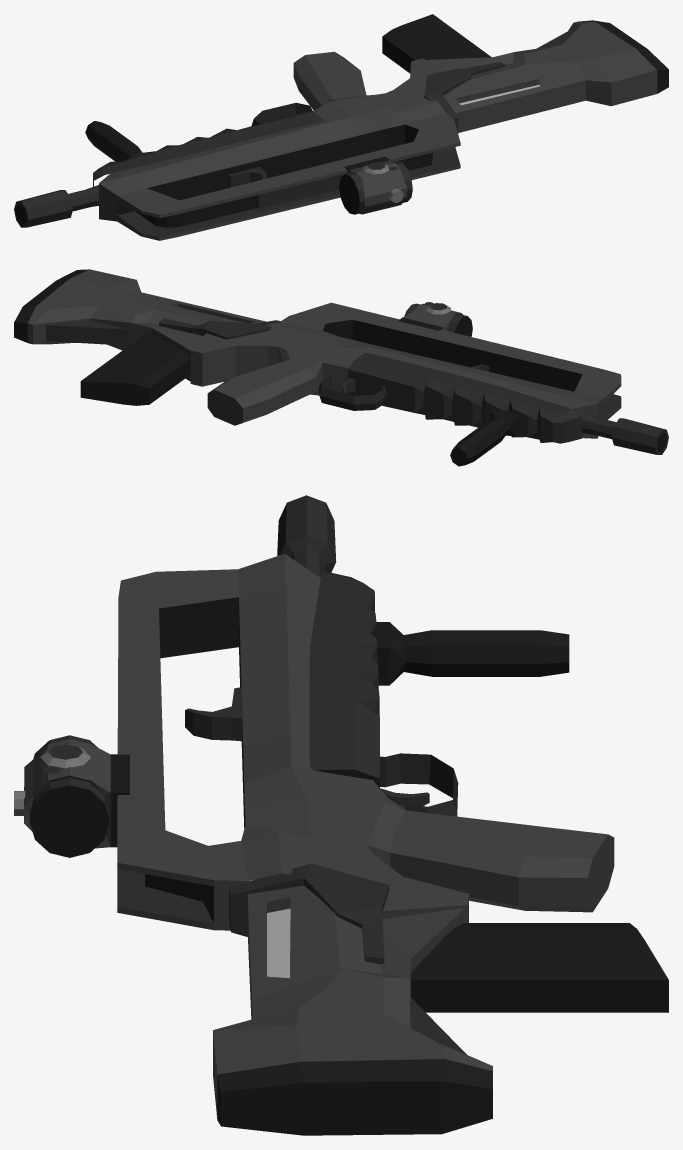
Rendered from FAMAS_3D.glb.
The picture shows the model from 3 angles, top to bottom: view 1: azimuth 30°, elevation 25°; view 2: azimuth 150°, elevation 25°; view 3: azimuth 270°, elevation 25°; orthographic projection. The views are drawn at different scales.
Visible parts, largest first — view 1: FamasLowPoly; view 2: FamasLowPoly; view 3: FamasLowPoly.
Part boxes in pixels (box(x1,y1,x2,y2)): FamasLowPoly: box(14, 14, 668, 240); FamasLowPoly: box(14, 269, 668, 466); FamasLowPoly: box(14, 495, 668, 1135).
Size of the model in its own units: 0.9387 by 0.0629 by 0.4414.
1 material, 1 textured.
